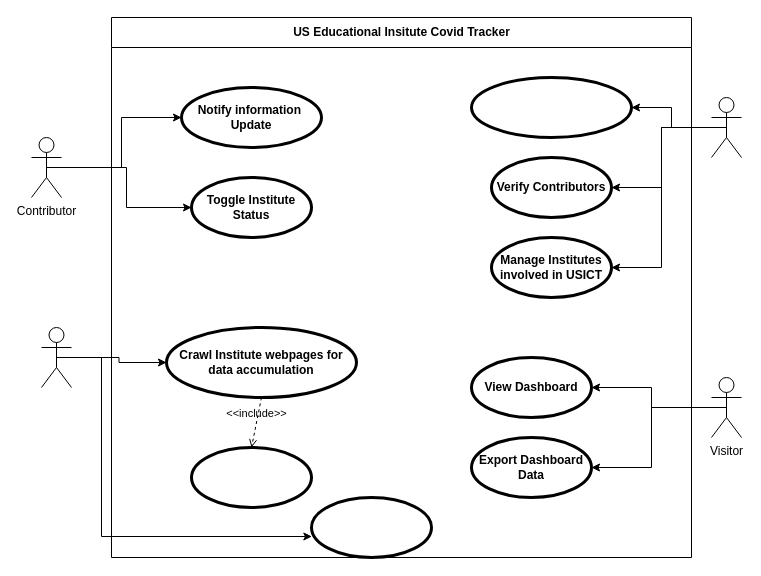
The diagram is 761 pixels wide and 576 high, and some of its shapes have lost their labels. The centre of each missing label's shape, as x and y in pixels:
Admin: point (726, 127)
Calculate Additional Statistics: point (251, 477)
Manage and Administrate USCIT: point (551, 107)
Update Dashboard: point (371, 527)
USICT System: point (56, 357)
